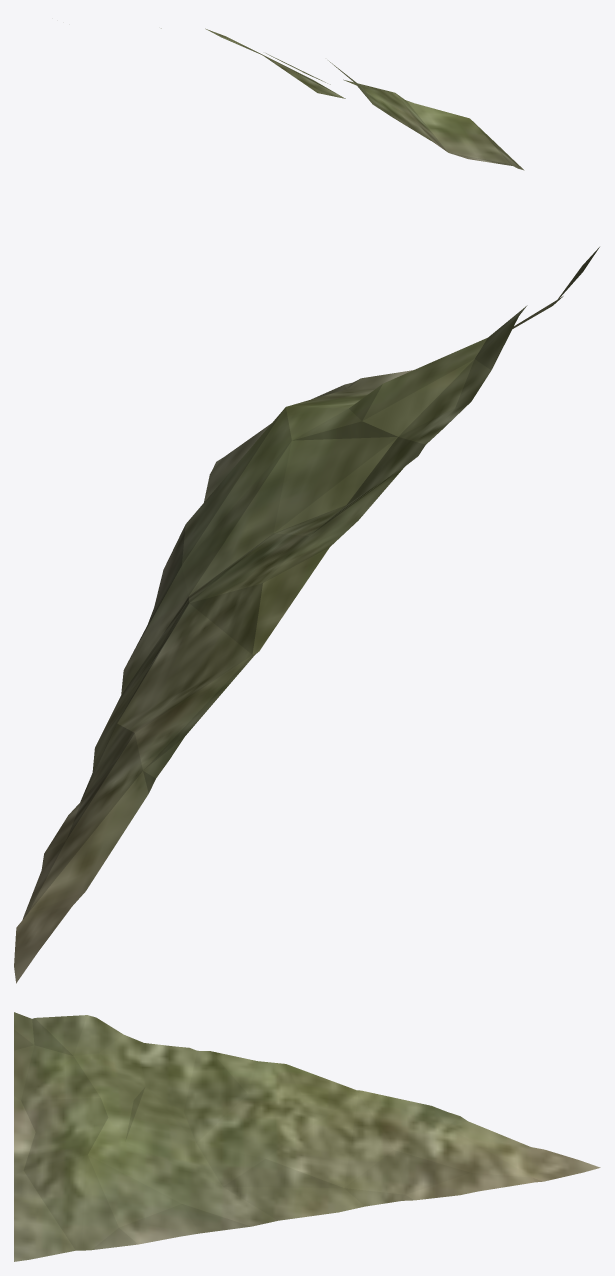
3 views of the same model, one above another, from view 1: azimuth 30°, elevation 25°; view 2: azimuth 150°, elevation 25°; view 3: azimuth 270°, elevation 25° (orthographic). The views are drawn at different scales.
Size of the model in its own units: 0.7315 by 0.5638 by 1.93.
Materials: 1 (1 with a texture image).
